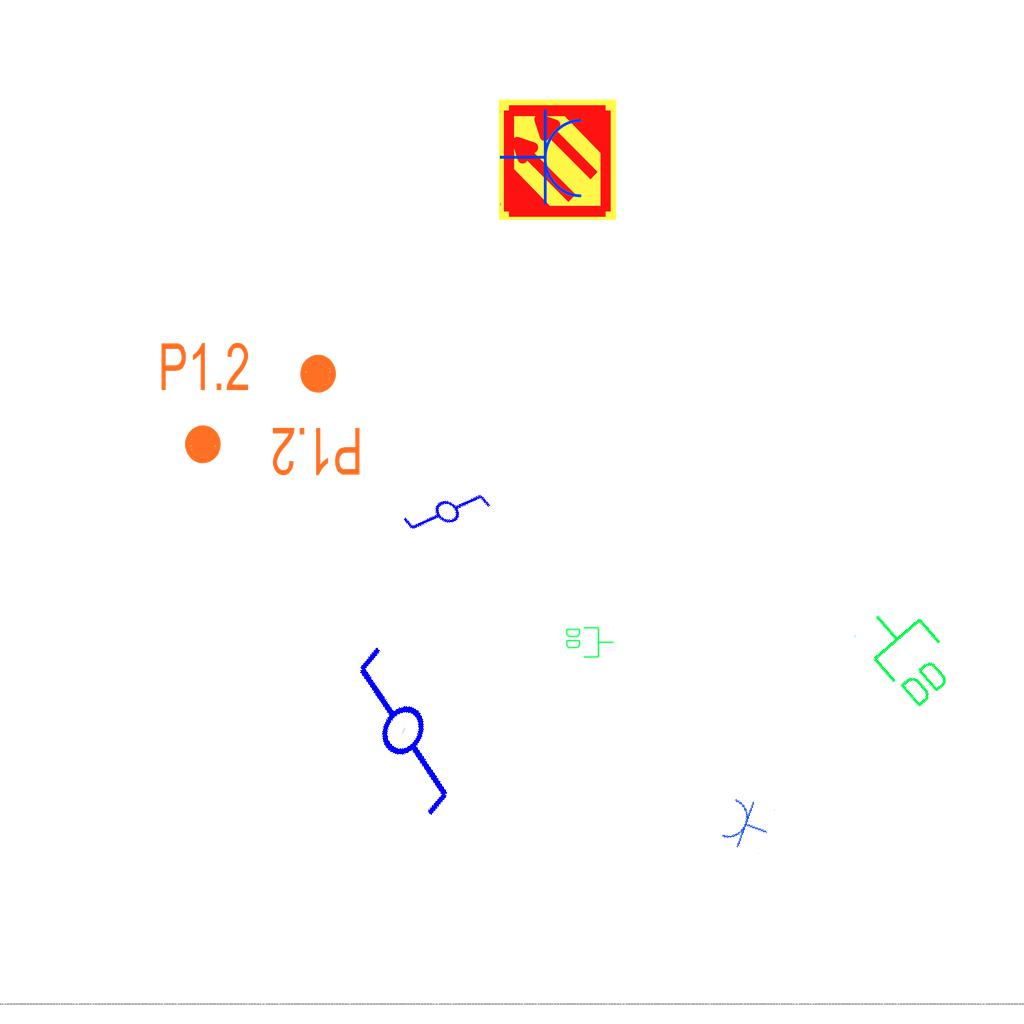ASR_Ansaugrauchmelder: (495, 97, 620, 222)
Datenanschluss_zweifach: (848, 591, 969, 716), (564, 625, 615, 659)
Downlight_LED_Einbauleuchten_Flur: (158, 339, 251, 467), (270, 351, 363, 479)
Schukosteckdose_einfach: (499, 108, 586, 208), (718, 793, 776, 856)
Wechselschalter: (310, 623, 507, 825), (397, 463, 503, 567)
